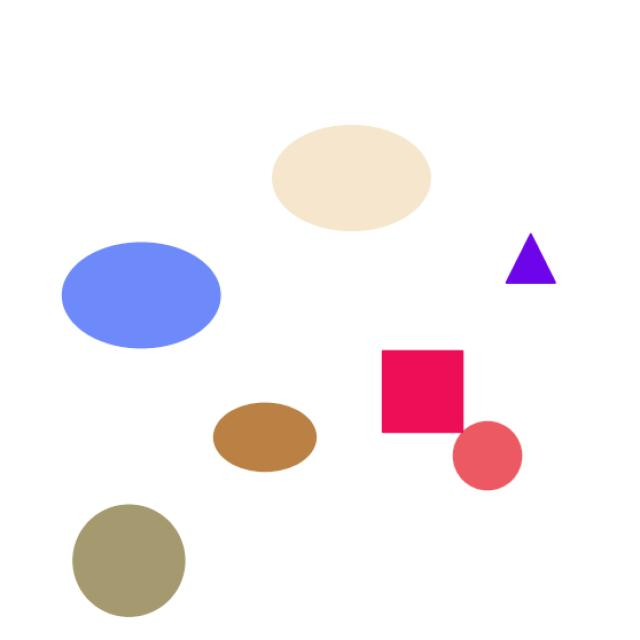Circle: (53, 494, 211, 615), (442, 408, 538, 501)
Oval: (256, 120, 448, 239), (52, 230, 225, 356), (194, 391, 341, 488)
Triangle: (502, 206, 573, 293)
square: (367, 342, 475, 445)
